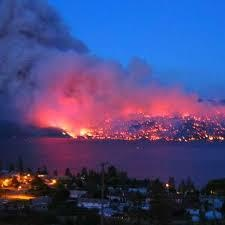fire: (0, 168, 55, 199)
